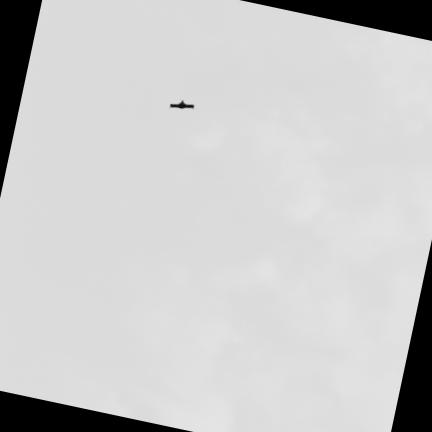Shahed: (170, 100, 193, 108)
